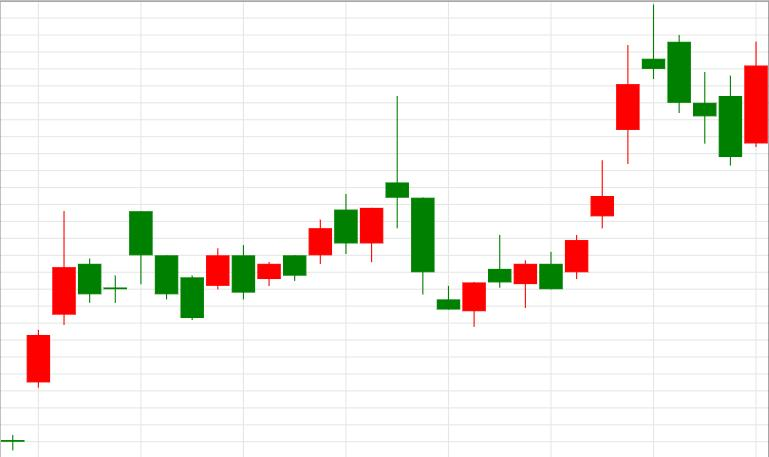bullish_engulfing_rise: (386, 96, 486, 326)
evening_star_fall: (258, 97, 434, 296)
